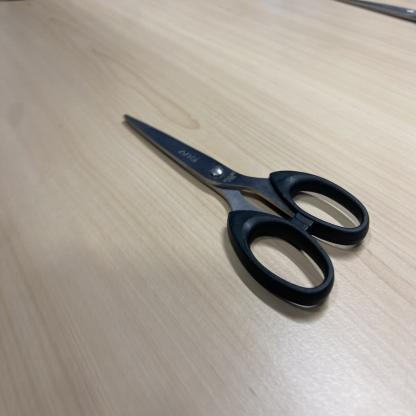scissors: (122, 113, 372, 309)
